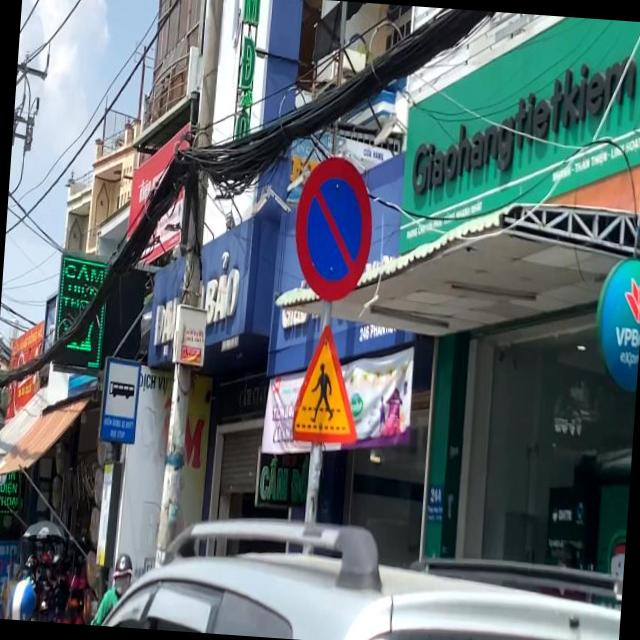P-131a: (292, 153, 378, 304)
W-224: (289, 322, 363, 444)
